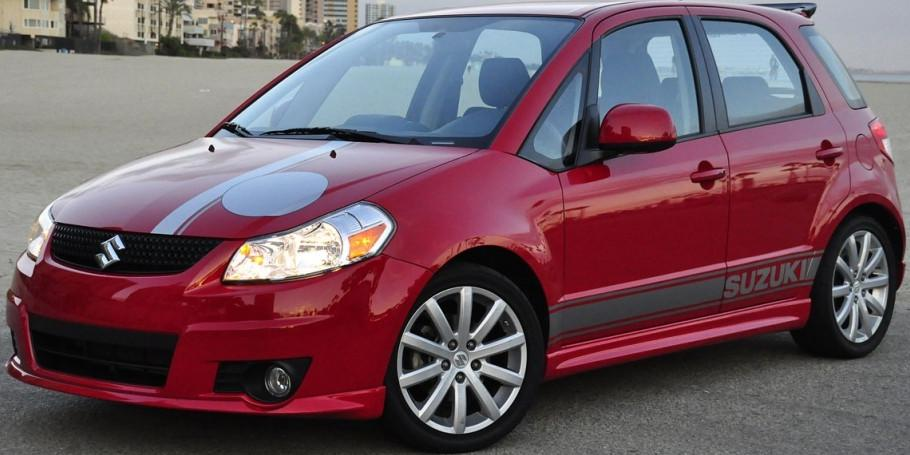front_view: (20, 193, 435, 427)
headlight: (228, 197, 402, 298)
side_glass: (574, 8, 824, 152)
